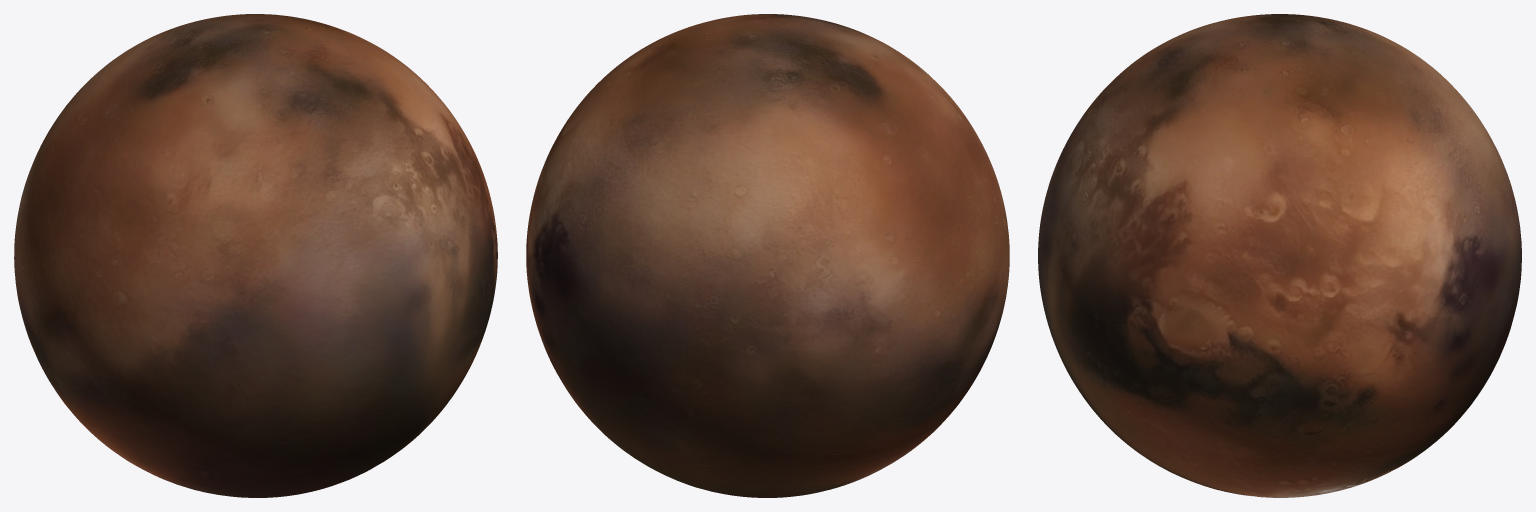
File: mars.glb
3 views of the same model, side by side, from view 1: azimuth 30°, elevation 25°; view 2: azimuth 150°, elevation 25°; view 3: azimuth 270°, elevation 25° (orthographic).
Visible parts, largest first — view 1: node_0; view 2: node_0; view 3: node_0.
Part boxes in pixels (<box>): node_0: <box>14,14,497,497</box>; node_0: <box>526,14,1009,497</box>; node_0: <box>1038,14,1521,497</box>.
Bounding box in the file's own units: 1.2 × 1.19 × 1.19.
1 material, 1 textured.
